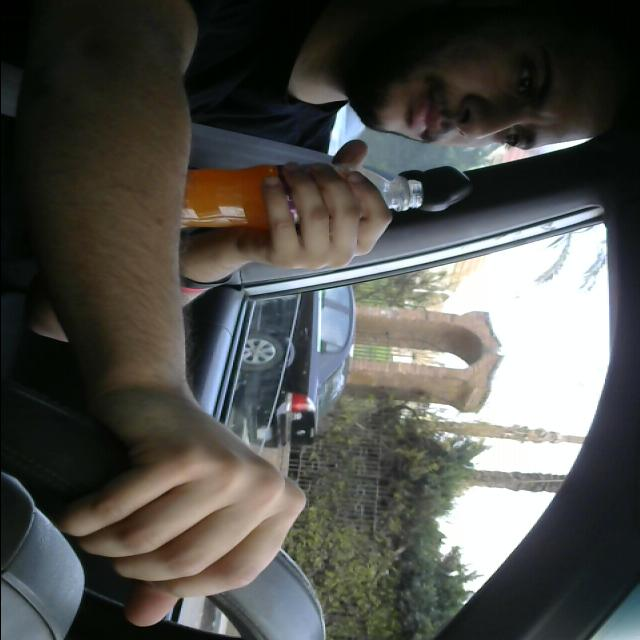drinking: (154, 158, 428, 234)
